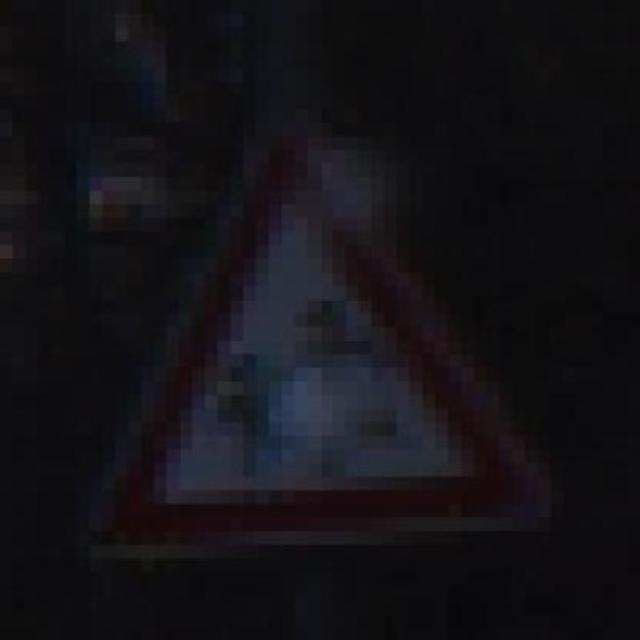Beware of children: (98, 136, 545, 572)
